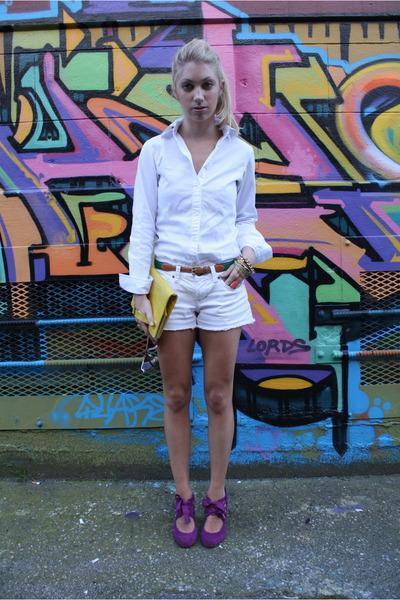bag: (138, 276, 176, 339)
shirt: (119, 132, 272, 293)
shoe: (167, 492, 223, 549)
shorts: (156, 260, 251, 329)
